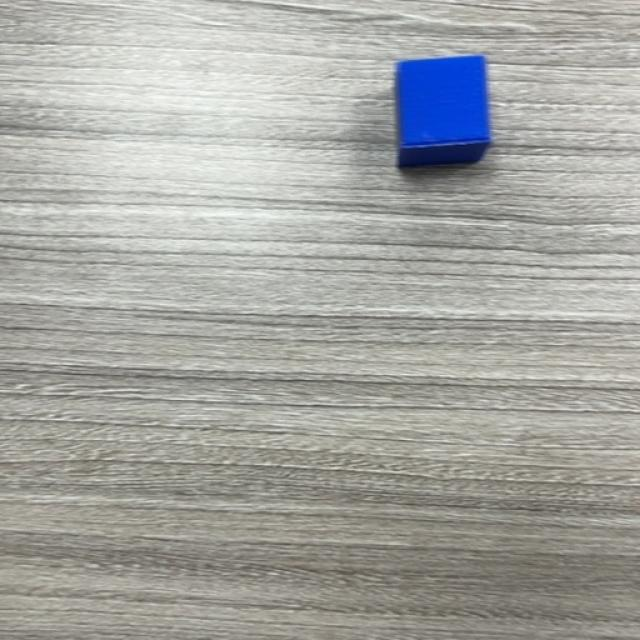Azul: (392, 56, 494, 172)
